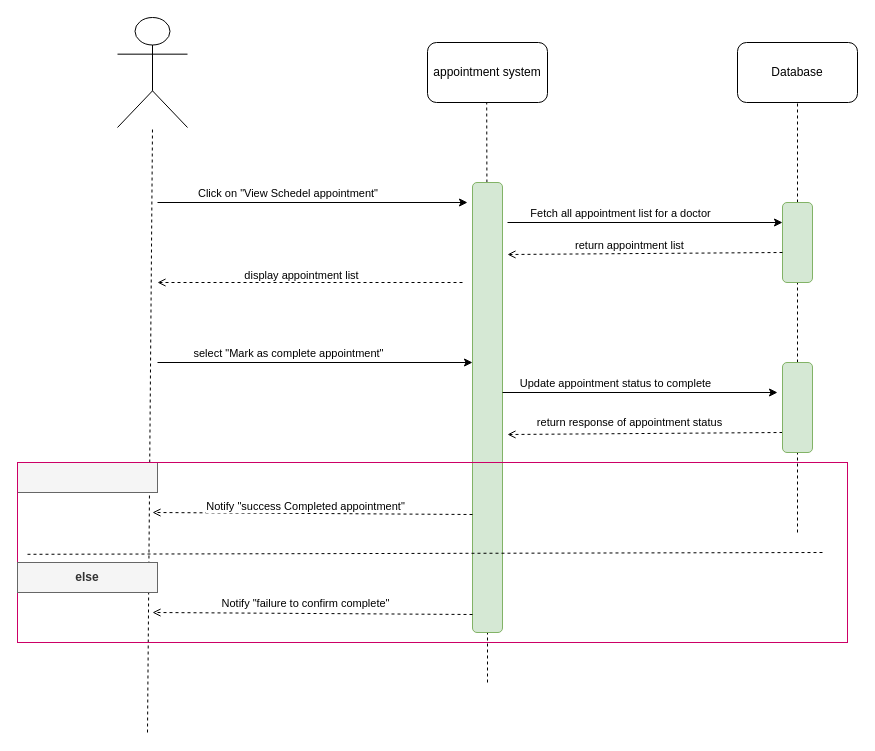
The diagram is 875 pixels wide and 751 high, and some of its shapes have lost their labels. The centre of each missing label's shape, as x and y in pixels:
Doctor: [152,72]
Success complete: [87,477]
